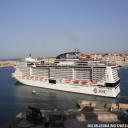cruises: (12, 49, 122, 101)
